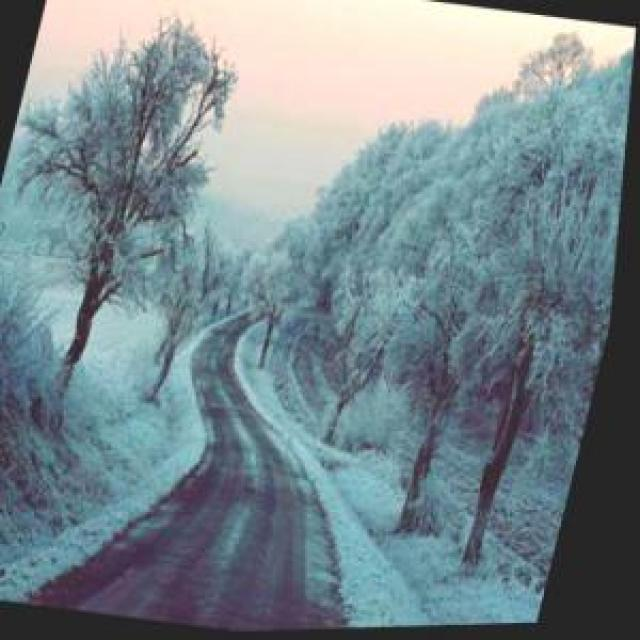clear-road: (33, 314, 335, 630)
